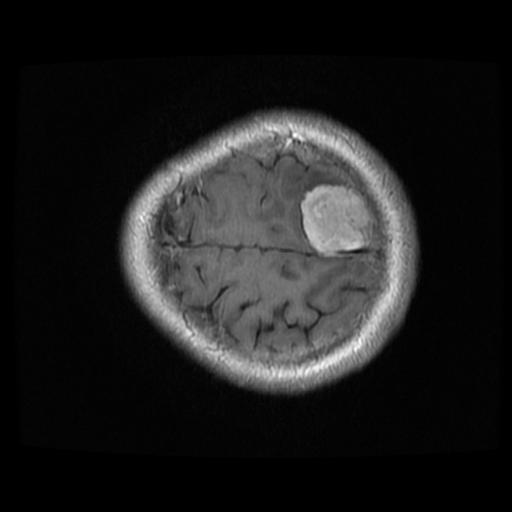meningioma: (299, 183, 372, 257)
